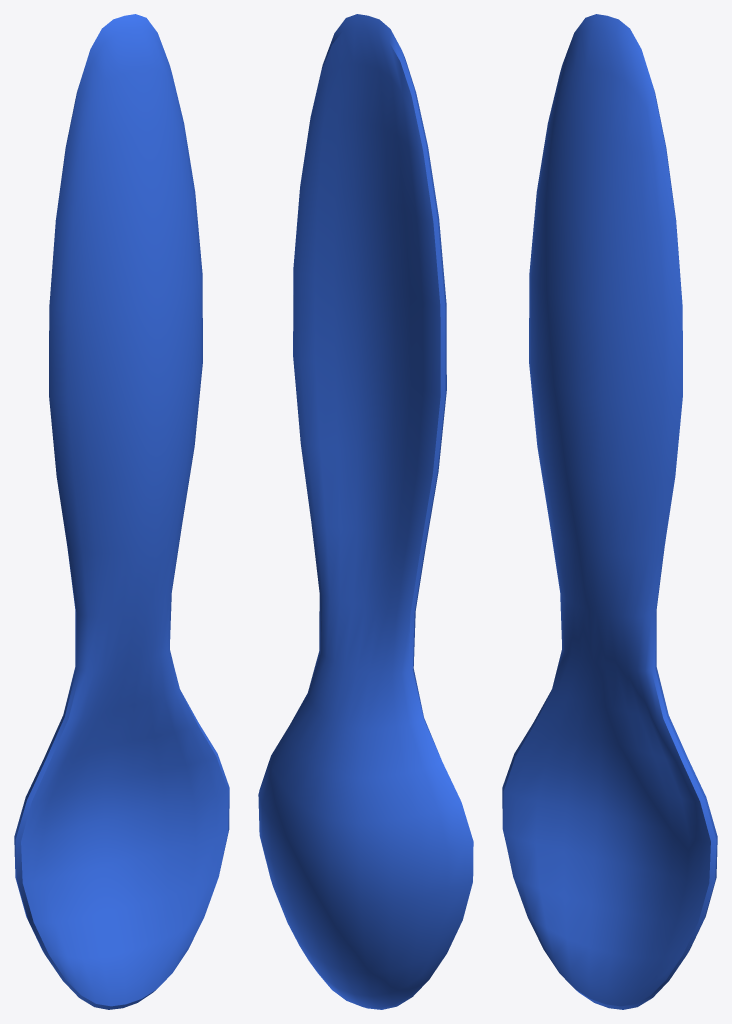
The model's file is kasik.fbx.
3 views of the same model, side by side, from view 1: azimuth 30°, elevation 25°; view 2: azimuth 150°, elevation 25°; view 3: azimuth 330°, elevation 25° (orthographic).
Parts seen in each view (by area): view 1: Cube.104; view 2: Cube.104; view 3: Cube.104.
Boxes of the visible parts, bbox=[...] form: Cube.104: bbox=[14, 14, 229, 1009]; Cube.104: bbox=[258, 14, 473, 1009]; Cube.104: bbox=[502, 14, 717, 1009].
Bounding box in the file's own units: 234 × 123 × 1037.
